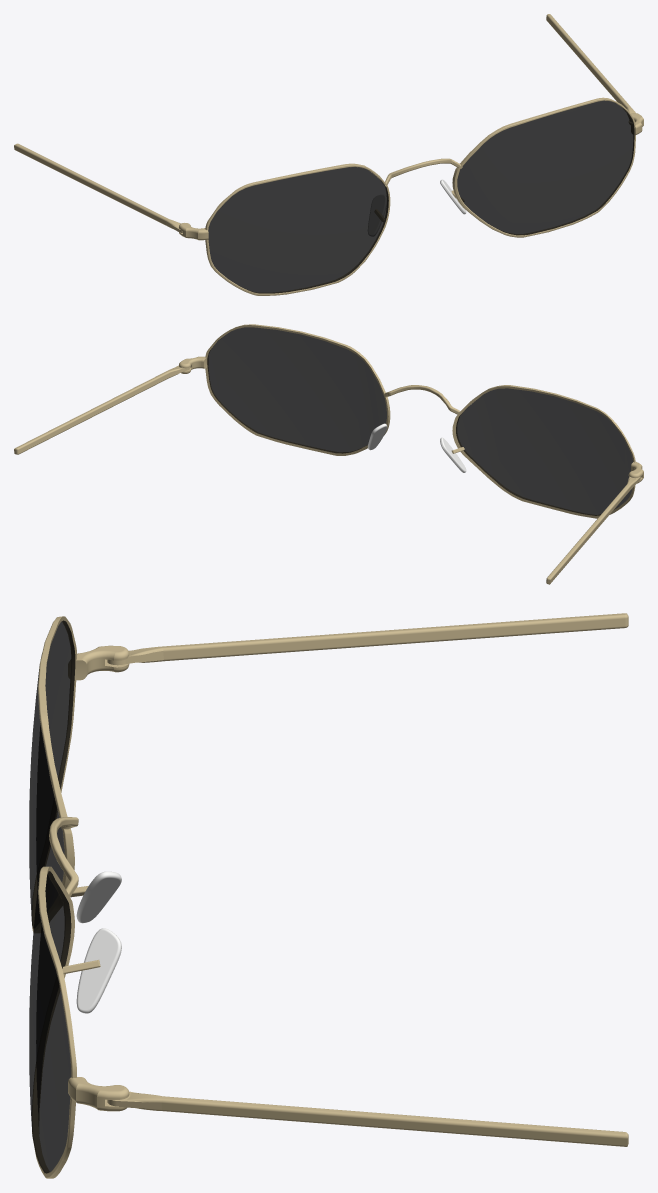
Rendered from sunglasses_euphoria.glb.
3 renders of one model, top to bottom at view 1: azimuth 30°, elevation 25°; view 2: azimuth 150°, elevation 25°; view 3: azimuth 270°, elevation 25°, orthographic. The views are drawn at different scales.
Visible parts, largest first — view 1: main, rightEar, leftEar; view 2: main, leftEar, rightEar; view 3: main, rightEar, leftEar.
Part boxes in pixels (x1=…): main: x1=163, y1=97, x2=643, y2=295; rightEar: x1=14, y1=143, x2=165, y2=224; leftEar: x1=546, y1=14, x2=628, y2=107; main: x1=164, y1=324, x2=643, y2=518; leftEar: x1=14, y1=372, x2=167, y2=454; rightEar: x1=546, y1=485, x2=629, y2=584; main: x1=29, y1=616, x2=170, y2=1178; rightEar: x1=170, y1=613, x2=628, y2=660; leftEar: x1=170, y1=1097, x2=628, y2=1146.
Size of the model in its own units: 2.2 by 0.4578 by 1.06.
3 materials, 1 textured.
